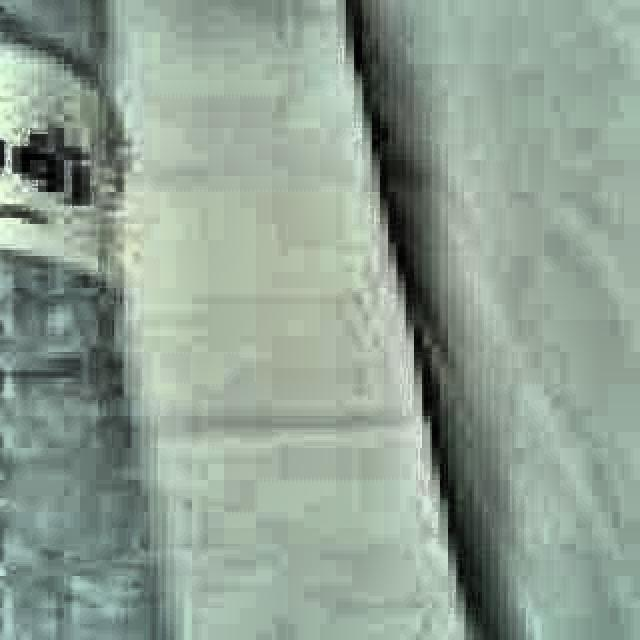plastic: (0, 0, 238, 640)
